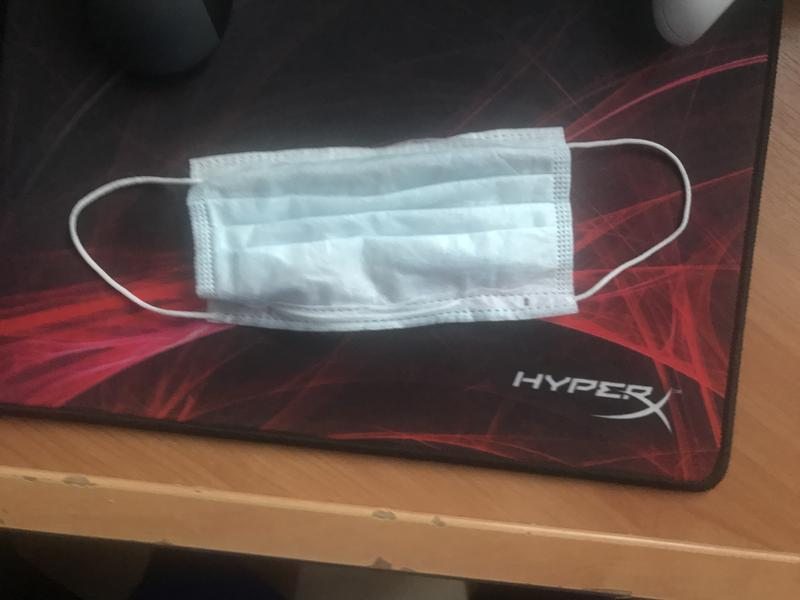medical_mask: (68, 127, 693, 331)
